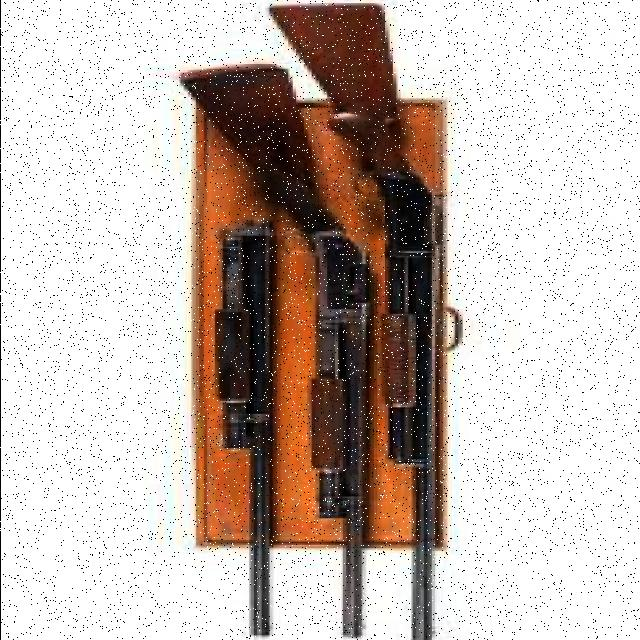Rifle: (268, 4, 440, 640), (175, 71, 366, 636)
